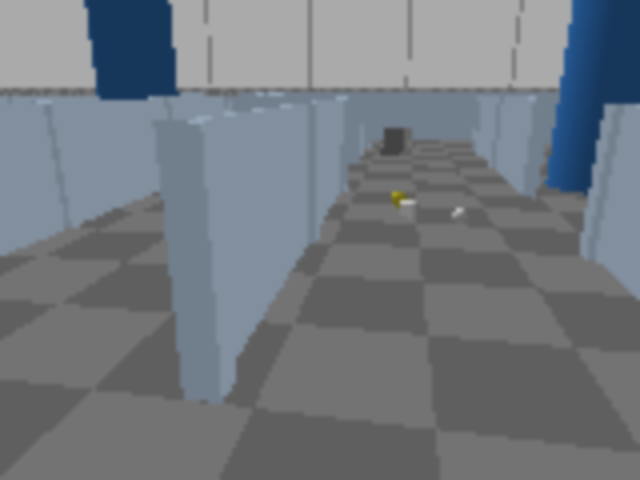puck: (388, 188, 409, 208), (450, 206, 472, 225), (398, 200, 414, 218)
